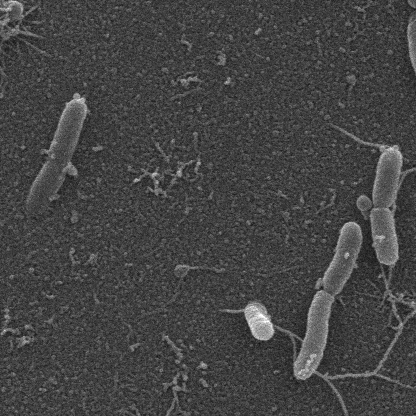cell2cell: (319, 283, 416, 380), (273, 325, 303, 347)
cell2surface: (317, 372, 414, 389), (316, 375, 355, 416), (333, 126, 389, 153), (384, 264, 405, 330), (405, 144, 416, 175)
regular: (27, 95, 83, 215), (294, 295, 330, 381), (320, 222, 358, 297), (373, 147, 400, 209), (372, 212, 400, 264), (245, 303, 272, 342), (409, 14, 416, 90)
